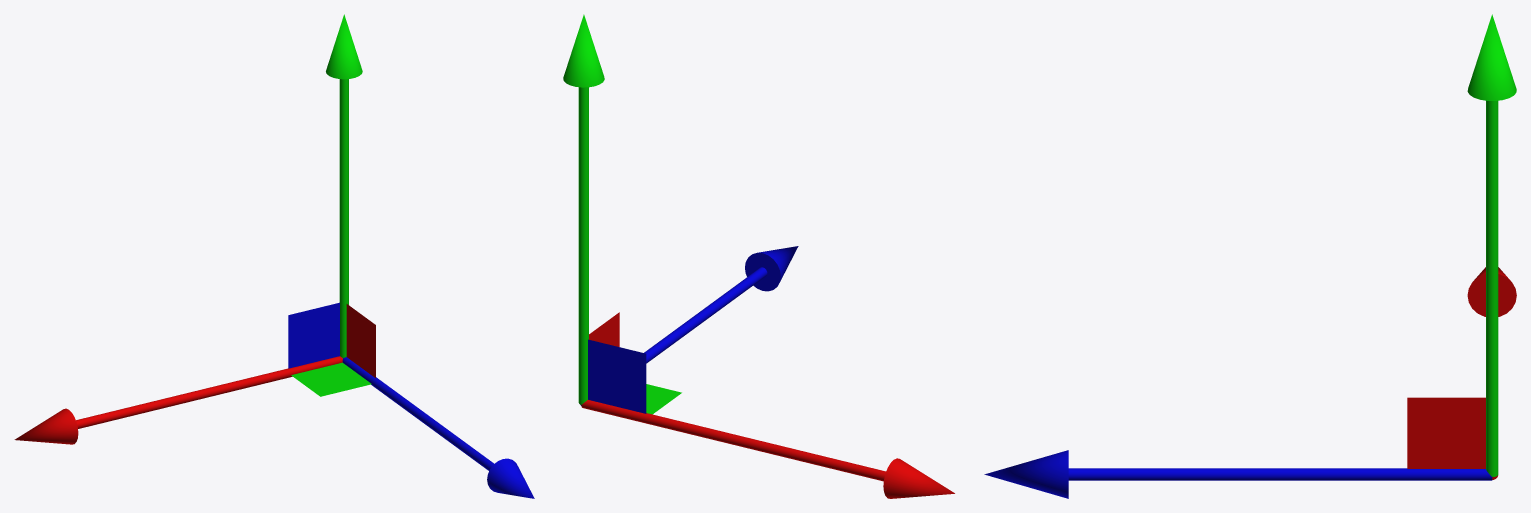
The model's file is Bg_gizPosition.fbx.
3 renders of one model, left to right at view 1: azimuth 30°, elevation 25°; view 2: azimuth 150°, elevation 25°; view 3: azimuth 270°, elevation 25°, orthographic. The views are drawn at different scales.
Visible parts, largest first — view 1: bg_chaplin01_mdl_GizmoPosition; view 2: bg_chaplin01_mdl_GizmoPosition; view 3: bg_chaplin01_mdl_GizmoPosition.
Part boxes in pixels (x1,y1,x2,y2): bg_chaplin01_mdl_GizmoPosition: [14, 14, 534, 498]; bg_chaplin01_mdl_GizmoPosition: [563, 14, 954, 498]; bg_chaplin01_mdl_GizmoPosition: [984, 14, 1516, 498].
Bounding box in the file's own units: 0.5265 × 0.5265 × 0.5265.
